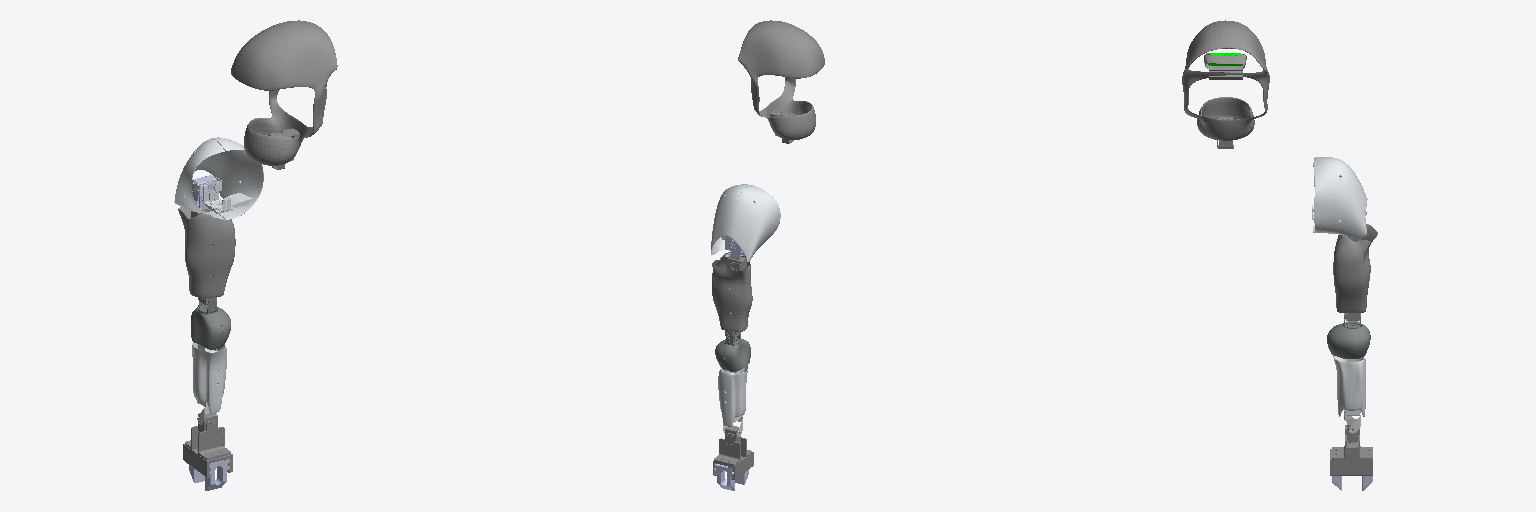
URDF robot description (left_arm_URDF):
<?xml version="1.0" encoding="utf-8"?>
<!-- This URDF was automatically created by SolidWorks to URDF Exporter! Originally created by [author] ([email redacted]) 
     Commit Version: 1.6.0-4-g7f85cfe  Build Version: 1.6.7995.38578
     For more information, please see http://wiki.ros.org/sw_urdf_exporter -->
<robot
  name="left_arm_URDF">
  <link
    name="base_link">
    <inertial>
      <origin
        xyz="0.0037770582145105 3.88556369317198E-05 -0.172672466710726"
        rpy="0 0 0" />
      <mass
        value="5.9028025886278" />
      <inertia
        ixx="0.22526915301125"
        ixy="1.39710828126589E-05"
        ixz="-0.00459702042142445"
        iyy="0.179623680457409"
        iyz="8.01873931509789E-06"
        izz="0.0829719390497794" />
    </inertial>
    <visual>
      <origin
        xyz="0 0 0"
        rpy="0 0 0" />
      <geometry>
        <mesh
          filename="package://myrobot_description/meshes/base_link.STL" />
      </geometry>
      <material
        name="">
        <color
          rgba="0.6 0.6 0.6 1" />
      </material>
    </visual>
    <collision>
      <origin
        xyz="0 0 0"
        rpy="0 0 0" />
      <geometry>
        <mesh
          filename="package://myrobot_description/meshes/base_link.STL" />
      </geometry>
    </collision>
  </link>
  <link
    name="left_shoulder_1">
    <inertial>
      <origin
        xyz="-0.00498481731723841 0.0137517435991431 0.0587564148003501"
        rpy="0 0 0" />
      <mass
        value="0.358791437962765" />
      <inertia
        ixx="0.00104427174380774"
        ixy="2.00364146722983E-07"
        ixz="2.17146156682329E-06"
        iyy="0.00047270300224328"
        iyz="-2.81381228345816E-05"
        izz="0.000898680006524921" />
    </inertial>
    <visual>
      <origin
        xyz="0 0 0"
        rpy="0 0 0" />
      <geometry>
        <mesh
          filename="package://myrobot_description/meshes/left_shoulder_1.STL" />
      </geometry>
      <material
        name="">
        <color
          rgba="0.898039215686275 0.917647058823529 0.929411764705882 1" />
      </material>
    </visual>
    <collision>
      <origin
        xyz="0 0 0"
        rpy="0 0 0" />
      <geometry>
        <mesh
          filename="package://myrobot_description/meshes/left_shoulder_1.STL" />
      </geometry>
    </collision>
  </link>
  <joint
    name="j21"
    type="revolute">
    <origin
      xyz="0 0.206244974999998 -0.012250000000019"
      rpy="1.5707963267949 0 3.14159265358979" />
    <parent
      link="base_link" />
    <child
      link="left_shoulder_1" />
    <axis
      xyz="0 0 1" />
    <limit
      lower="-1.571"
      upper="1.571"
      effort="0"
      velocity="0" />
  </joint>
  <link
    name="left_shoulder_2">
    <inertial>
      <origin
        xyz="5.611878174E-05 -0.0178134227541423 -0.00264857664605147"
        rpy="0 0 0" />
      <mass
        value="0.0788967646315721" />
      <inertia
        ixx="2.497032236646E-05"
        ixy="1.08200611741564E-10"
        ixz="-5.28927266614562E-11"
        iyy="1.49488267010286E-05"
        iyz="2.11248838599649E-06"
        izz="2.56896409576934E-05" />
    </inertial>
    <visual>
      <origin
        xyz="0 0 0"
        rpy="0 0 0" />
      <geometry>
        <mesh
          filename="package://myrobot_description/meshes/left_shoulder_2.STL" />
      </geometry>
      <material
        name="">
        <color
          rgba="0.792156862745098 0.819607843137255 0.933333333333333 1" />
      </material>
    </visual>
    <collision>
      <origin
        xyz="0 0 0"
        rpy="0 0 0" />
      <geometry>
        <mesh
          filename="package://myrobot_description/meshes/left_shoulder_2.STL" />
      </geometry>
    </collision>
  </link>
  <joint
    name="j22"
    type="revolute">
    <origin
      xyz="0 0.000324623368871669 0.0970303585666364"
      rpy="0 -1.5707963267949 0" />
    <parent
      link="left_shoulder_1" />
    <child
      link="left_shoulder_2" />
    <axis
      xyz="0 0 1" />
    <limit
      lower="-0.105"
      upper="1.22"
      effort="0"
      velocity="0" />
  </joint>
  <link
    name="left_shoulder_3">
    <inertial>
      <origin
        xyz="0.00153360627643073 -0.000477621194118035 -0.109902482357076"
        rpy="0 0 0" />
      <mass
        value="0.401297766857032" />
      <inertia
        ixx="0.00103021181484885"
        ixy="-1.53478980866693E-05"
        ixz="-5.01560498777546E-06"
        iyy="0.00094032189139374"
        iyz="-1.37513321808917E-05"
        izz="0.000500408011028432" />
    </inertial>
    <visual>
      <origin
        xyz="0 0 0"
        rpy="0 0 0" />
      <geometry>
        <mesh
          filename="package://myrobot_description/meshes/left_shoulder_3.STL" />
      </geometry>
      <material
        name="">
        <color
          rgba="0.6 0.6 0.6 1" />
      </material>
    </visual>
    <collision>
      <origin
        xyz="0 0 0"
        rpy="0 0 0" />
      <geometry>
        <mesh
          filename="package://myrobot_description/meshes/left_shoulder_3.STL" />
      </geometry>
    </collision>
  </link>
  <joint
    name="j23"
    type="revolute">
    <origin
      xyz="0.000197322450478765 -0.0552026775494689 0.00797500000000062"
      rpy="1.57079632679491 0 3.14159265358979" />
    <parent
      link="left_shoulder_2" />
    <child
      link="left_shoulder_3" />
    <axis
      xyz="0 0 1" />
    <limit
      lower="-1.571"
      upper="1.571"
      effort="0"
      velocity="0" />
  </joint>
  <link
    name="left_elbow_1">
    <inertial>
      <origin
        xyz="0.0623831224921948 0.00840974324354837 -0.00241958317085898"
        rpy="0 0 0" />
      <mass
        value="0.164627752012669" />
      <inertia
        ixx="0.000157239395126284"
        ixy="-4.76081561939847E-06"
        ixz="-4.75167915814644E-07"
        iyy="0.000106208889501223"
        iyz="-2.99750404217899E-06"
        izz="0.000136882035334267" />
    </inertial>
    <visual>
      <origin
        xyz="0 0 0"
        rpy="0 0 0" />
      <geometry>
        <mesh
          filename="package://myrobot_description/meshes/left_elbow_1.STL" />
      </geometry>
      <material
        name="">
        <color
          rgba="0.529411764705882 0.549019607843137 0.549019607843137 1" />
      </material>
    </visual>
    <collision>
      <origin
        xyz="0 0 0"
        rpy="0 0 0" />
      <geometry>
        <mesh
          filename="package://myrobot_description/meshes/left_elbow_1.STL" />
      </geometry>
    </collision>
  </link>
  <joint
    name="j24"
    type="revolute">
    <origin
      xyz="0 -0.000199999999985666 -0.224700000000006"
      rpy="1.5707963267949 1.5707963267949 0" />
    <parent
      link="left_shoulder_3" />
    <child
      link="left_elbow_1" />
    <axis
      xyz="0 1 0" />
    <limit
      lower="-1.0472"
      upper="1.309"
      effort="0"
      velocity="0" />
  </joint>
  <link
    name="left_elbow_2">
    <inertial>
      <origin
        xyz="-0.00116960087526097 0.0871271100772432 -0.00166348296458033"
        rpy="0 0 0" />
      <mass
        value="0.244439210733274" />
      <inertia
        ixx="0.000298192069020658"
        ixy="7.22338272178546E-08"
        ixz="-1.48675431184618E-07"
        iyy="0.000158157979740065"
        iyz="-2.72002085575098E-06"
        izz="0.000300750386020088" />
    </inertial>
    <visual>
      <origin
        xyz="0 0 0"
        rpy="0 0 0" />
      <geometry>
        <mesh
          filename="package://myrobot_description/meshes/left_elbow_2.STL" />
      </geometry>
      <material
        name="">
        <color
          rgba="0.898039215686275 0.917647058823529 0.929411764705882 1" />
      </material>
    </visual>
    <collision>
      <origin
        xyz="0 0 0"
        rpy="0 0 0" />
      <geometry>
        <mesh
          filename="package://myrobot_description/meshes/left_elbow_2.STL" />
      </geometry>
    </collision>
  </link>
  <joint
    name="j25"
    type="revolute">
    <origin
      xyz="0.0975853550987641 0.000297322450554638 0.000197322450540465"
      rpy="0 0 -1.5707963267949" />
    <parent
      link="left_elbow_1" />
    <child
      link="left_elbow_2" />
    <axis
      xyz="0 1 0" />
    <limit
      lower="-1.57"
      upper="1.57"
      effort="0"
      velocity="0" />
  </joint>
  <link
    name="left_wrist_1">
    <inertial>
      <origin
        xyz="0.004577239799263 -0.0165514905545454 -2.35897871488436E-08"
        rpy="0 0 0" />
      <mass
        value="0.0180647810553896" />
      <inertia
        ixx="4.94192902119461E-06"
        ixy="-6.09088197039089E-13"
        ixz="5.69824577833894E-07"
        iyy="2.04164818688615E-06"
        iyz="-9.92920027302345E-13"
        izz="4.81263492770793E-06" />
    </inertial>
    <visual>
      <origin
        xyz="0 0 0"
        rpy="0 0 0" />
      <geometry>
        <mesh
          filename="package://myrobot_description/meshes/left_wrist_1.STL" />
      </geometry>
      <material
        name="">
        <color
          rgba="0.898039215686275 0.917647058823529 0.929411764705882 1" />
      </material>
    </visual>
    <collision>
      <origin
        xyz="0 0 0"
        rpy="0 0 0" />
      <geometry>
        <mesh
          filename="package://myrobot_description/meshes/left_wrist_1.STL" />
      </geometry>
    </collision>
  </link>
  <joint
    name="j26"
    type="revolute">
    <origin
      xyz="0 0.152052677549566 -0.000297322450548531"
      rpy="0 0 -3.14159265358979" />
    <parent
      link="left_elbow_2" />
    <child
      link="left_wrist_1" />
    <axis
      xyz="1 0 0" />
    <limit
      lower="-0.52"
      upper="0.52"
      effort="0"
      velocity="0" />
  </joint>
  <link
    name="left_wrist_2">
    <inertial>
      <origin
        xyz="0.000788979606911877 -0.0556665826660349 -0.00218356001110909"
        rpy="0 0 0" />
      <mass
        value="0.207514061526763" />
      <inertia
        ixx="0.00011878063742872"
        ixy="7.09780918253583E-08"
        ixz="-5.348667933151E-13"
        iyy="0.000142651824468331"
        iyz="2.12781564042068E-08"
        izz="0.00011690277689932" />
    </inertial>
    <visual>
      <origin
        xyz="0 0 0"
        rpy="0 0 0" />
      <geometry>
        <mesh
          filename="package://myrobot_description/meshes/left_wrist_2.STL" />
      </geometry>
      <material
        name="">
        <color
          rgba="0.6 0.6 0.6 1" />
      </material>
    </visual>
    <collision>
      <origin
        xyz="0 0 0"
        rpy="0 0 0" />
      <geometry>
        <mesh
          filename="package://myrobot_description/meshes/left_wrist_2.STL" />
      </geometry>
    </collision>
  </link>
  <joint
    name="j27"
    type="revolute">
    <origin
      xyz="0.000127322450572731 -0.0449999999999919 0"
      rpy="0 0 0" />
    <parent
      link="left_wrist_1" />
    <child
      link="left_wrist_2" />
    <axis
      xyz="0 0 1" />
    <limit
      lower="-1.571"
      upper="1.571"
      effort="0"
      velocity="0" />
  </joint>
  <link
    name="left_finger_1">
    <inertial>
      <origin
        xyz="-0.0128841580955447 0.0341205748371174 -0.0109116868365304"
        rpy="0 0 0" />
      <mass
        value="0.0609022601784627" />
      <inertia
        ixx="4.82024507201227E-05"
        ixy="-3.17406035690314E-07"
        ixz="1.70407876095635E-06"
        iyy="2.31897350289538E-05"
        iyz="3.40739911357438E-06"
        izz="3.67679961302716E-05" />
    </inertial>
    <visual>
      <origin
        xyz="0 0 0"
        rpy="0 0 0" />
      <geometry>
        <mesh
          filename="package://myrobot_description/meshes/left_finger_1.STL" />
      </geometry>
      <material
        name="">
        <color
          rgba="0.792156862745098 0.819607843137255 0.933333333333333 1" />
      </material>
    </visual>
    <collision>
      <origin
        xyz="0 0 0"
        rpy="0 0 0" />
      <geometry>
        <mesh
          filename="package://myrobot_description/meshes/left_finger_1.STL" />
      </geometry>
    </collision>
  </link>
  <joint
    name="f28"
    type="prismatic">
    <origin
      xyz="0.048429203299978 -0.0798000000000137 -0.012727322450562"
      rpy="-3.14159265358978 0 0" />
    <parent
      link="left_wrist_2" />
    <child
      link="left_finger_1" />
    <axis
      xyz="1 0 0" />
    <limit
      lower="-0.024"
      upper="0"
      effort="0"
      velocity="0" />
  </joint>
  <link
    name="left_finger_2">
    <inertial>
      <origin
        xyz="-0.0128841580620748 0.0341205748801486 -0.0109116869153437"
        rpy="0 0 0" />
      <mass
        value="0.0609022599124918" />
      <inertia
        ixx="4.82024505958164E-05"
        ixy="-3.17406017338057E-07"
        ixz="1.70407872657131E-06"
        iyy="2.31897349198971E-05"
        iyz="3.40739906139009E-06"
        izz="3.67679960822E-05" />
    </inertial>
    <visual>
      <origin
        xyz="0 0 0"
        rpy="0 0 0" />
      <geometry>
        <mesh
          filename="package://myrobot_description/meshes/left_finger_2.STL" />
      </geometry>
      <material
        name="">
        <color
          rgba="0.792156862745098 0.819607843137255 0.933333333333333 1" />
      </material>
    </visual>
    <collision>
      <origin
        xyz="0 0 0"
        rpy="0 0 0" />
      <geometry>
        <mesh
          filename="package://myrobot_description/meshes/left_finger_2.STL" />
      </geometry>
    </collision>
  </link>
  <joint
    name="f29"
    type="prismatic">
    <origin
      xyz="-0.0468360049026447 -0.0798000000000124 0.0126726775494417"
      rpy="0 0 3.14159265358979" />
    <parent
      link="left_wrist_2" />
    <child
      link="left_finger_2" />
    <axis
      xyz="-1 0 0" />
    <limit
      lower="0"
      upper="0.024"
      effort="0"
      velocity="0" />
  </joint>
  <link
    name="neck_yaw">
    <inertial>
      <origin
        xyz="2.8929E-11 0.0095177 2.4362E-08"
        rpy="0 0 0" />
      <mass
        value="0.02475" />
      <inertia
        ixx="2.4429E-06"
        ixy="-8.0473E-15"
        ixz="-5.5356E-15"
        iyy="6.7824E-06"
        iyz="-8.6546E-13"
        izz="7.5925E-06" />
    </inertial>
    <visual>
      <origin
        xyz="0 0 0"
        rpy="0 0 0" />
      <geometry>
        <mesh
          filename="package://myrobot_description/meshes/neck_yaw.STL" />
      </geometry>
      <material
        name="">
        <color
          rgba="0.52941 0.54902 0.54902 1" />
      </material>
    </visual>
    <collision>
      <origin
        xyz="0 0 0"
        rpy="0 0 0" />
      <geometry>
        <mesh
          filename="package://myrobot_description/meshes/neck_yaw.STL" />
      </geometry>
    </collision>
  </link>
  <joint
    name="j31"
    type="revolute">
    <origin
      xyz="0.00875 0 0.1486"
      rpy="1.5708 0 1.5708" />
    <parent
      link="base_link" />
    <child
      link="neck_yaw" />
    <axis
      xyz="0 1 0" />
    <limit
      lower="-1.57"
      upper="1.57"
      effort="0"
      velocity="0" />
  </joint>
  <link
    name="neck_pitch">
    <inertial>
      <origin
        xyz="0.18995 -0.013103 0.00089041"
        rpy="0 0 0" />
      <mass
        value="0.78791" />
      <inertia
        ixx="0.0046773"
        ixy="0.0007712"
        ixz="5.0088E-05"
        iyy="0.0087386"
        iyz="4.9381E-05"
        izz="0.0086581" />
    </inertial>
    <visual>
      <origin
        xyz="0 0 0"
        rpy="0 0 0" />
      <geometry>
        <mesh
          filename="package://myrobot_description/meshes/neck_pitch.STL" />
      </geometry>
      <material
        name="">
        <color
          rgba="0.6 0.6 0.6 1" />
      </material>
    </visual>
    <collision>
      <origin
        xyz="0 0 0"
        rpy="0 0 0" />
      <geometry>
        <mesh
          filename="package://myrobot_description/meshes/neck_pitch.STL" />
      </geometry>
    </collision>
  </link>
  <joint
    name="j_32"
    type="revolute">
    <origin
      xyz="0 0.030398 0"
      rpy="-1.5708 0 1.5708" />
    <parent
      link="neck_yaw" />
    <child
      link="neck_pitch" />
    <axis
      xyz="0 0 1" />
    <limit
      lower="-0.52"
      upper="0.52"
      effort="0"
      velocity="0" />
  </joint>
  <link
    name="camera">
    <inertial>
      <origin
        xyz="-0.000479 2.7843E-05 -0.012566"
        rpy="0 0 0" />
      <mass
        value="1.2669" />
      <inertia
        ixx="0.00011453"
        ixy="-4.0383E-08"
        ixz="-1.1341E-05"
        iyy="0.0007716"
        iyz="-2.0551E-07"
        izz="0.00076373" />
    </inertial>
    <visual>
      <origin
        xyz="0 0 0"
        rpy="0 0 0" />
      <geometry>
        <mesh
          filename="package://myrobot_description/meshes/camera.STL" />
      </geometry>
      <material
        name="">
        <color
          rgba="0 1 0 1" />
      </material>
    </visual>
    <collision>
      <origin
        xyz="0 0 0"
        rpy="0 0 0" />
      <geometry>
        <mesh
          filename="package://myrobot_description/meshes/camera.STL" />
      </geometry>
    </collision>
  </link>
  <joint
    name="j33"
    type="fixed">
    <origin
      xyz="0.23949 -0.10418 0.0015188"
      rpy="-0.34907 -1.5533 1.3204" />
    <parent
      link="neck_pitch" />
    <child
      link="camera" />
    <axis
      xyz="0 0 0" />
  </joint>
</robot>

--- What the picture shows (computed from the rendered views, not written in the file) ---
Views: 3 orthographic renders of the robot side by side, from view 1: azimuth 30°, elevation 25°; view 2: azimuth 150°, elevation 25°; view 3: azimuth 270°, elevation 25°.
Robot: left_arm_URDF — 13 links, 12 joints (9 revolute, 2 prismatic, 1 fixed); root link base_link; default pose: every joint at zero.
Visible links, largest first — view 1: neck_pitch, left_shoulder_1, left_shoulder_3, left_elbow_2, left_wrist_2, left_elbow_1; view 2: neck_pitch, left_shoulder_1, left_shoulder_3, left_elbow_2, left_wrist_2, left_elbow_1; view 3: neck_pitch, left_shoulder_1, left_shoulder_3, left_elbow_2, left_wrist_2, left_elbow_1.
Link boxes in pixels (x1,y1,x2,y2): neck_pitch: [231, 20, 337, 165]; left_shoulder_1: [174, 137, 263, 219]; left_shoulder_3: [178, 207, 235, 305]; left_elbow_2: [192, 342, 226, 412]; left_wrist_2: [183, 413, 232, 477]; left_elbow_1: [191, 297, 230, 349]; neck_pitch: [738, 20, 824, 139]; left_shoulder_1: [711, 184, 780, 261]; left_shoulder_3: [712, 252, 752, 338]; left_elbow_2: [718, 366, 747, 426]; left_wrist_2: [713, 425, 753, 479]; left_elbow_1: [715, 333, 750, 371]; neck_pitch: [1182, 20, 1269, 147]; left_shoulder_1: [1312, 157, 1367, 237]; left_shoulder_3: [1333, 224, 1377, 320]; left_elbow_2: [1333, 356, 1365, 416]; left_wrist_2: [1330, 419, 1372, 475]; left_elbow_1: [1327, 313, 1370, 358].
Bounding box of the posed robot: 0.2165 × 0.4689 × 1.24 m (x, y, z).
Meshes: 13 distinct files referenced, 12 mesh visuals loaded (12 binary STL); not drawn: 1 (reference not matched to a file when rendering).